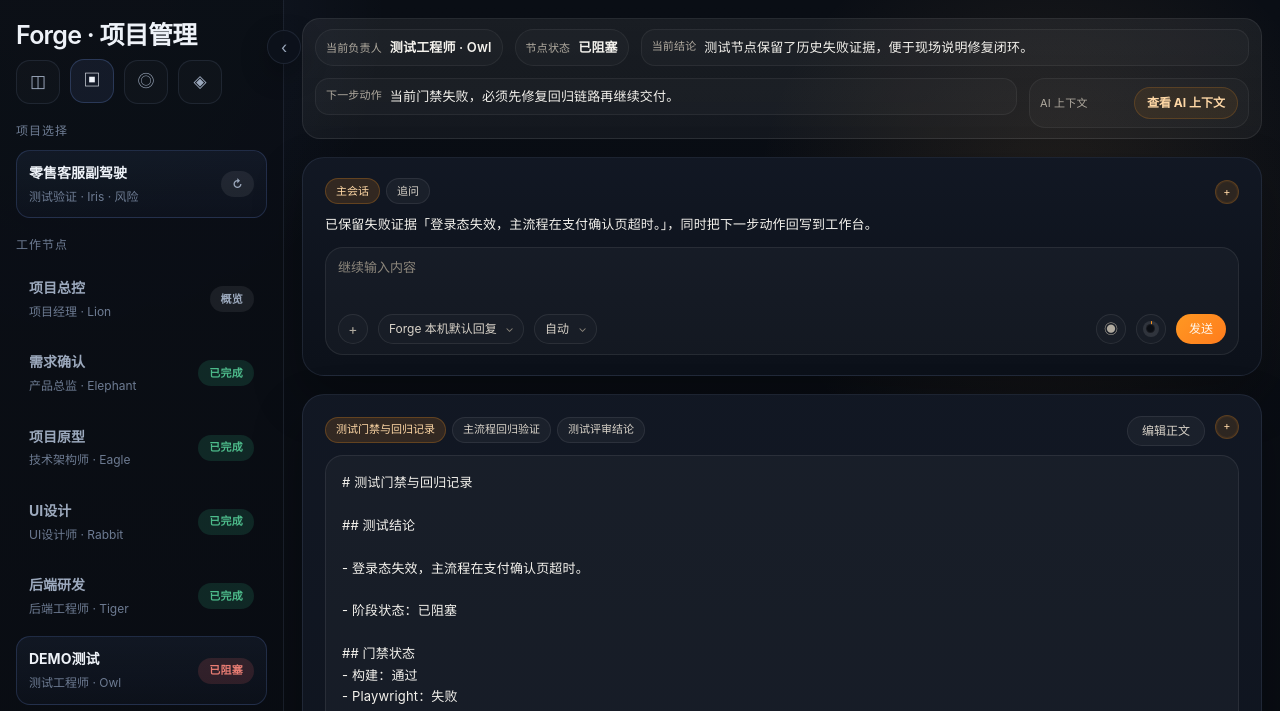
Test: Forge projects page › shows the current data mode in 项目总控 when page data provides it
Click the button "项目总控 项目经理 · Lion 概览" at (142, 299), box left=16, top=265, right=267, bottom=333
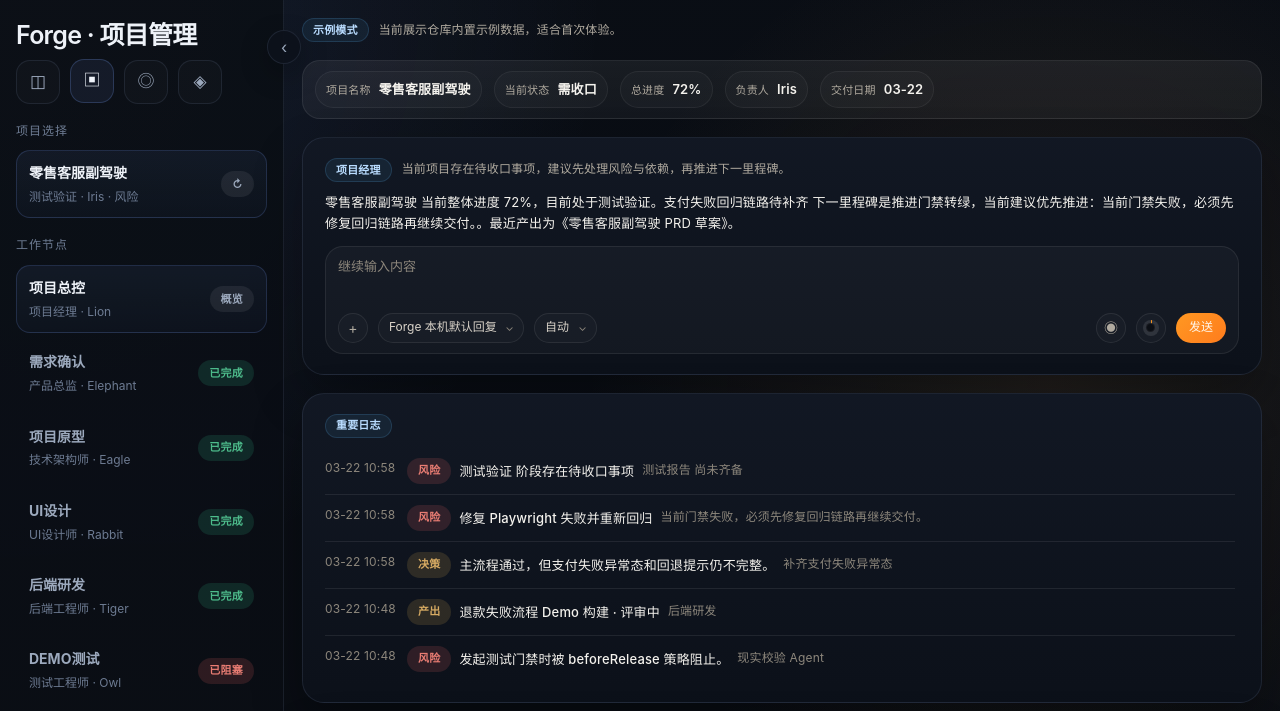
Check: the text "示例模式" is shown, box left=302, top=18, right=369, bottom=42
Check: the text "当前展示仓库内置示例数据，适合首次体验。" is shown, box left=379, top=21, right=622, bottom=39
